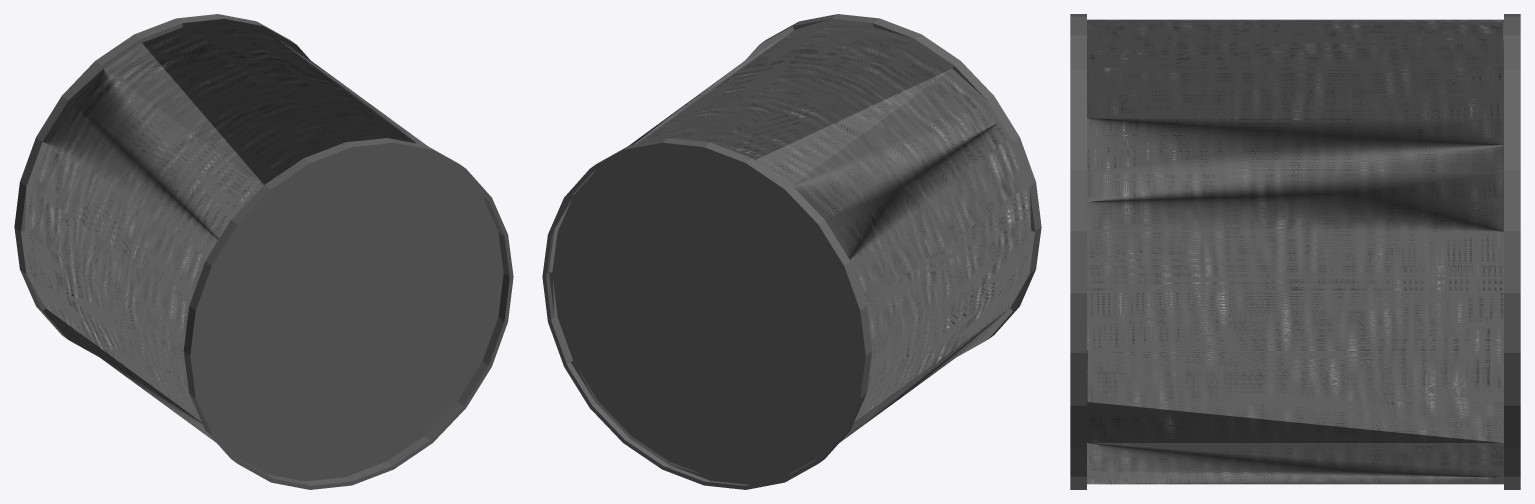
The model's file is model_align.obj.
3 renders of one model, left to right at view 1: azimuth 30°, elevation 25°; view 2: azimuth 150°, elevation 25°; view 3: azimuth 270°, elevation 25°, orthographic. The views are drawn at different scales.
Bounding box in the file's own units: 0.1036 × 0.1036 × 0.0975.
